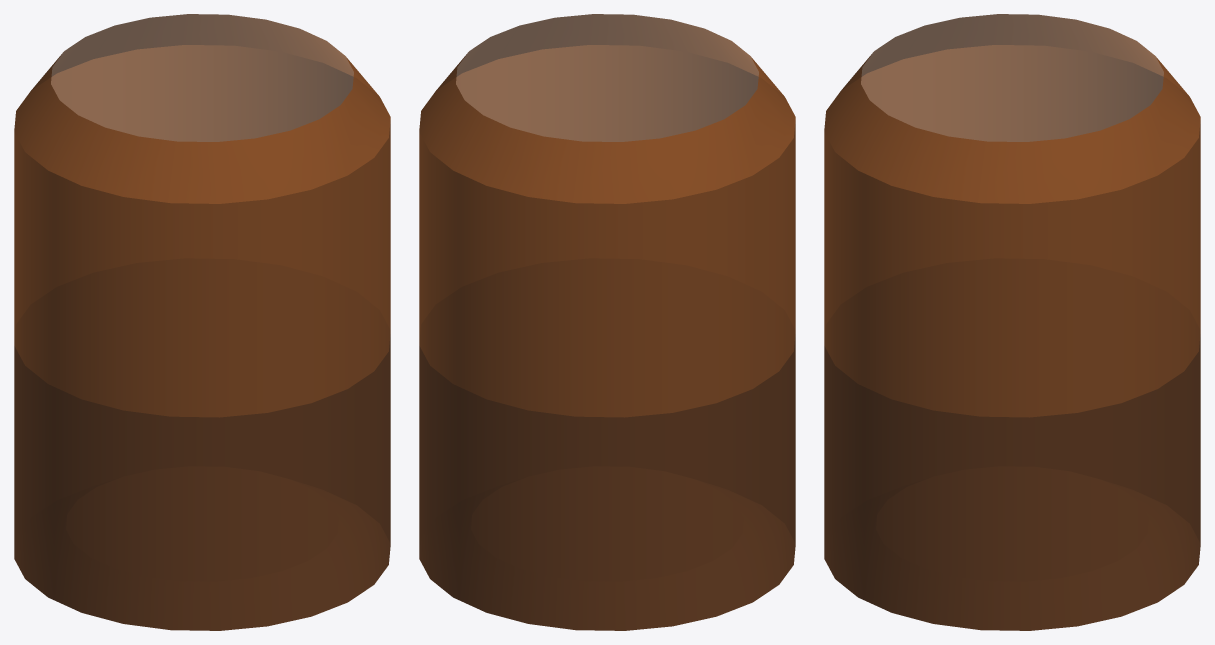
3 renders of one model, left to right at view 1: azimuth 30°, elevation 25°; view 2: azimuth 150°, elevation 25°; view 3: azimuth 270°, elevation 25°, orthographic.
Size of the model in its own units: 1.13 by 1.57 by 1.13.
